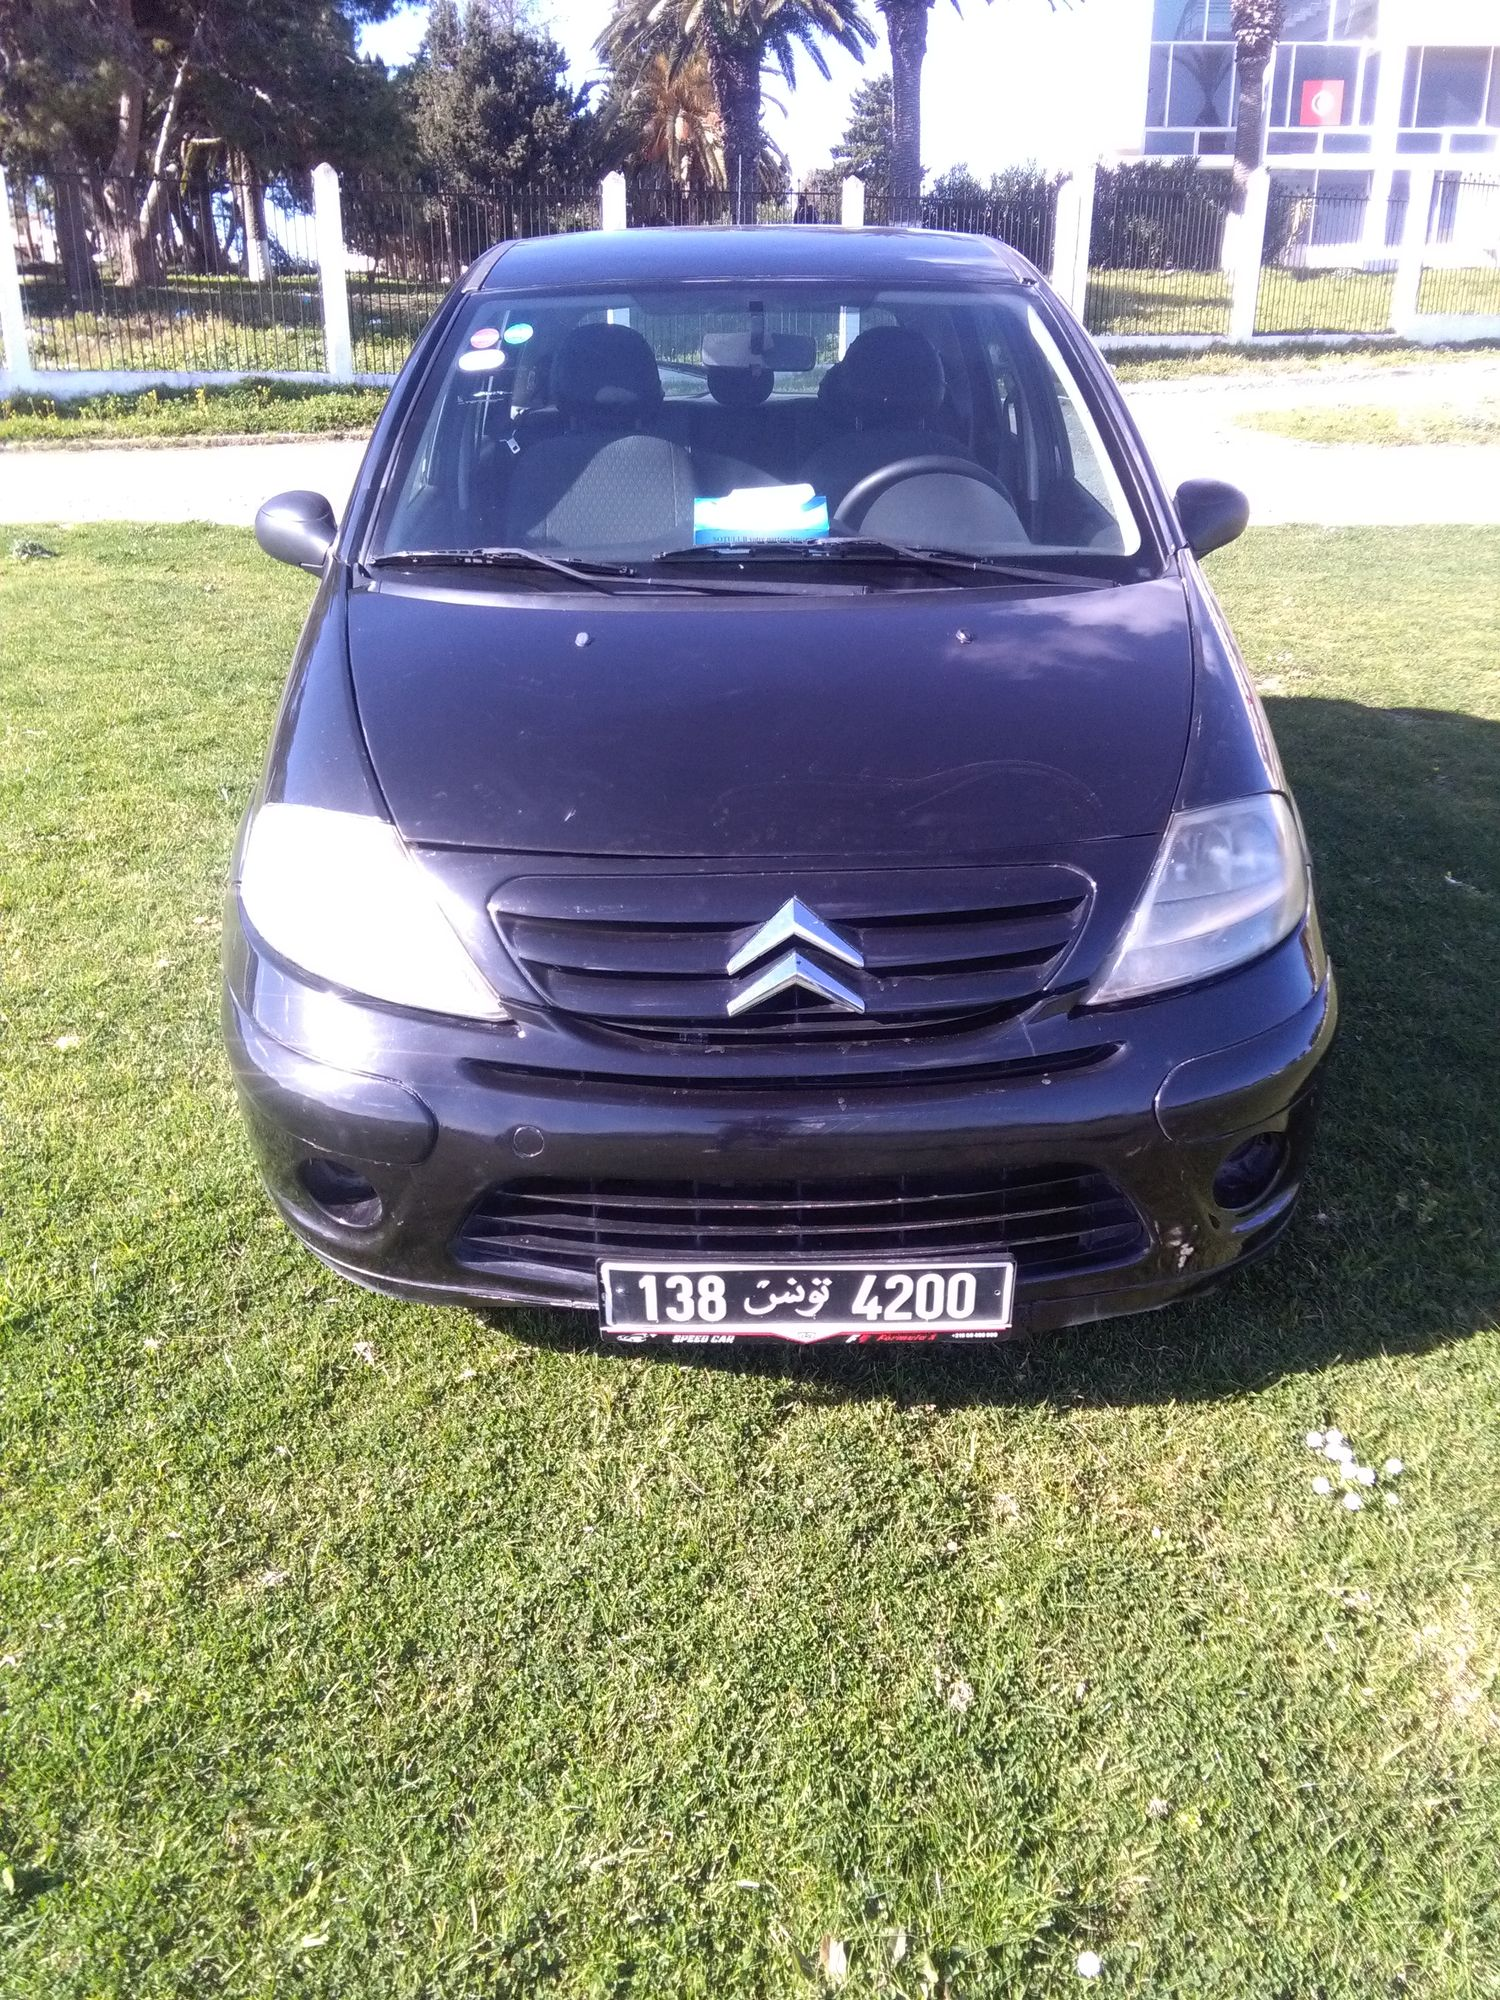LP: (600, 1257, 1015, 1342)
